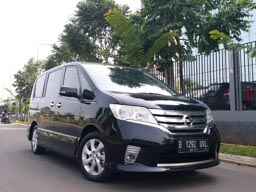plat: (179, 140, 209, 148)
